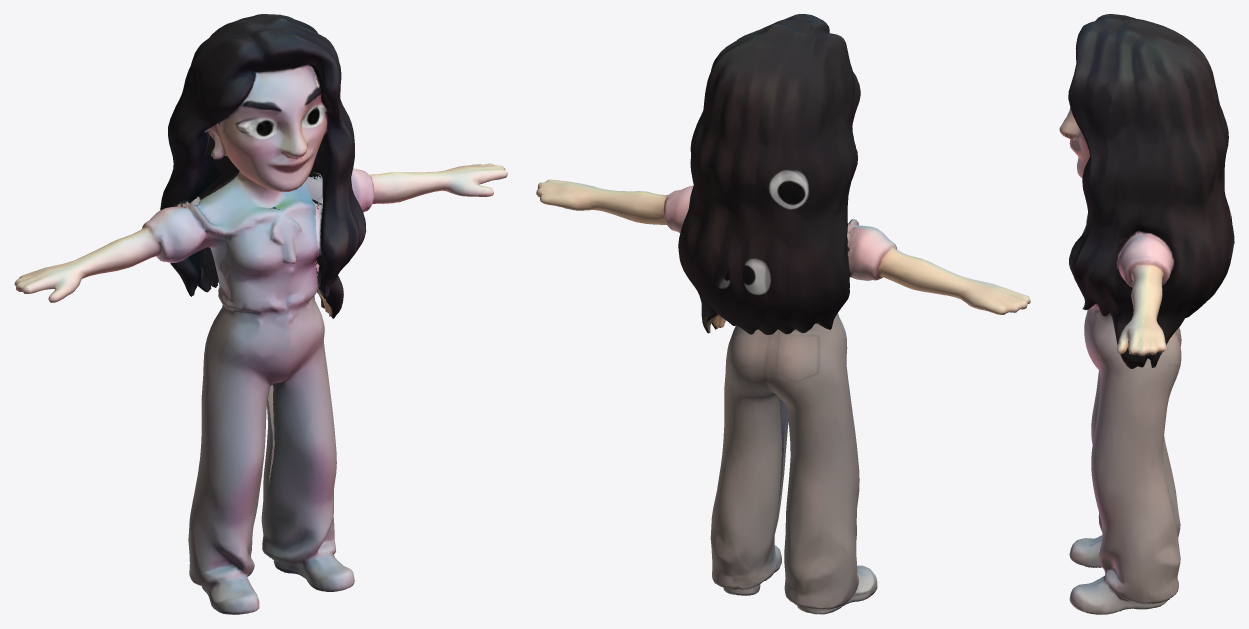
File: Harika.fbx
The picture shows the model from 3 angles, left to right: view 1: azimuth 30°, elevation 25°; view 2: azimuth 150°, elevation 25°; view 3: azimuth 270°, elevation 25°; orthographic projection.
Visible parts, largest first — view 1: tmp1y0dfgzrply; view 2: tmp1y0dfgzrply; view 3: tmp1y0dfgzrply.
Boxes of the visible parts, box(x1,y1,x2,y2) form: tmp1y0dfgzrply: box(14, 14, 507, 614); tmp1y0dfgzrply: box(536, 14, 1030, 614); tmp1y0dfgzrply: box(1059, 14, 1234, 614).
Bounding box in the file's own units: 0.9085 × 1 × 0.2834.
Materials: 1 (1 with a texture image).
